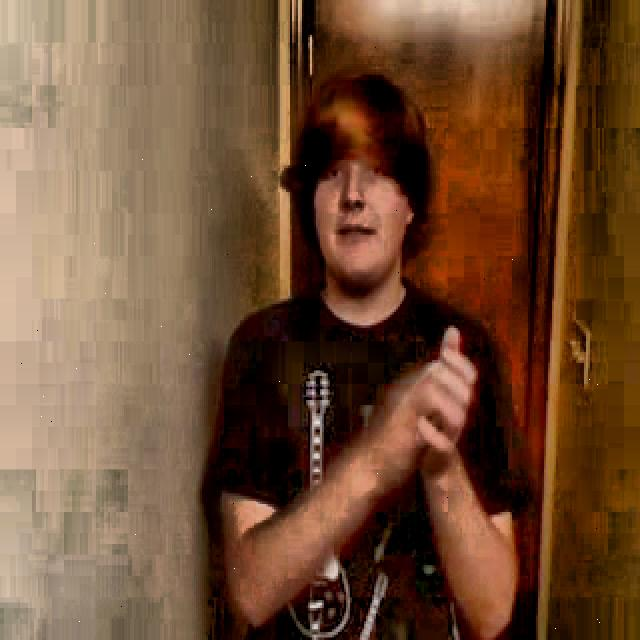F: (214, 77, 521, 640)
